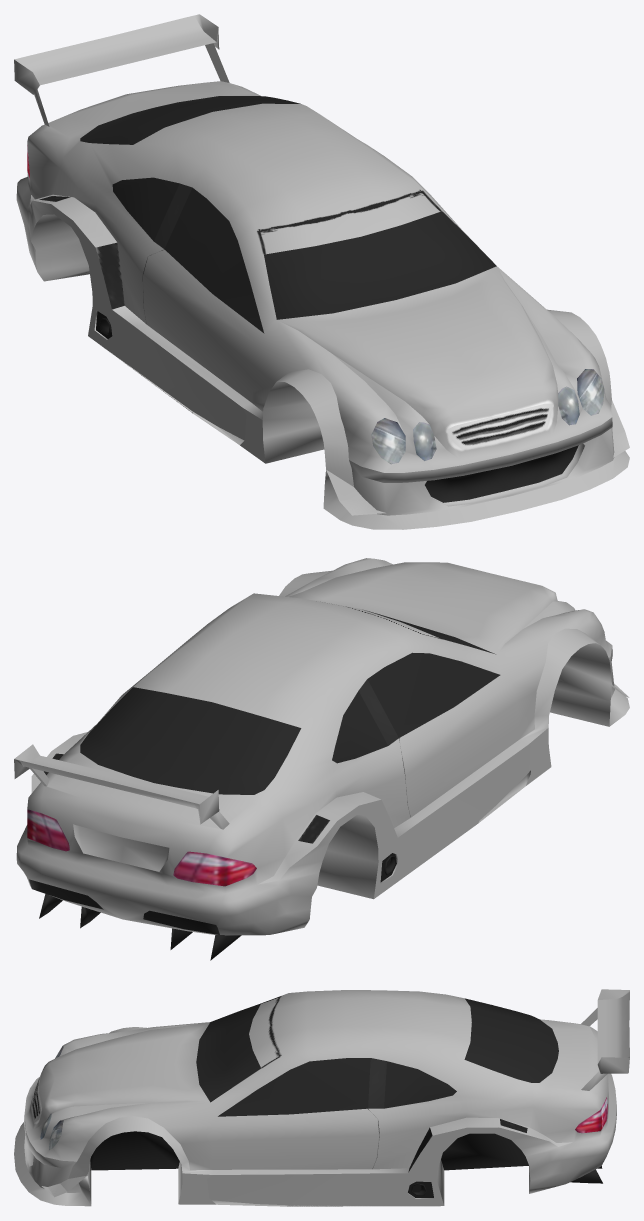
File: GermanSmallRacingCoupe.fbx
The picture shows the model from 3 angles, top to bottom: view 1: azimuth 30°, elevation 25°; view 2: azimuth 150°, elevation 25°; view 3: azimuth 270°, elevation 25°; orthographic projection. The views are drawn at different scales.
Visible parts, largest first — view 1: Plane; view 2: Plane; view 3: Plane.
Part boxes in pixels (x1,y1,x2,y2): Plane: (14, 14, 629, 529); Plane: (14, 558, 629, 960); Plane: (14, 989, 629, 1206).
Size of the model in its own units: 128 by 81.45 by 318.
3 materials, 2 textured.
